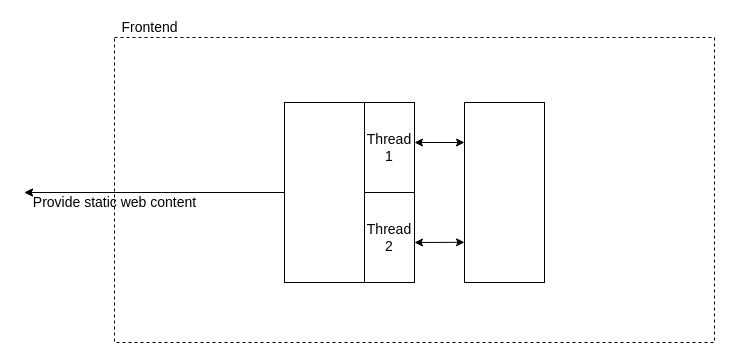
Some shapes in this 732 by 360 pixel diagram are drawn without their labels. The centre of each missing label's shape, as x and y in pixels:
Load Balancer: the point at 324,192
Static Web Content: the point at 504,192
